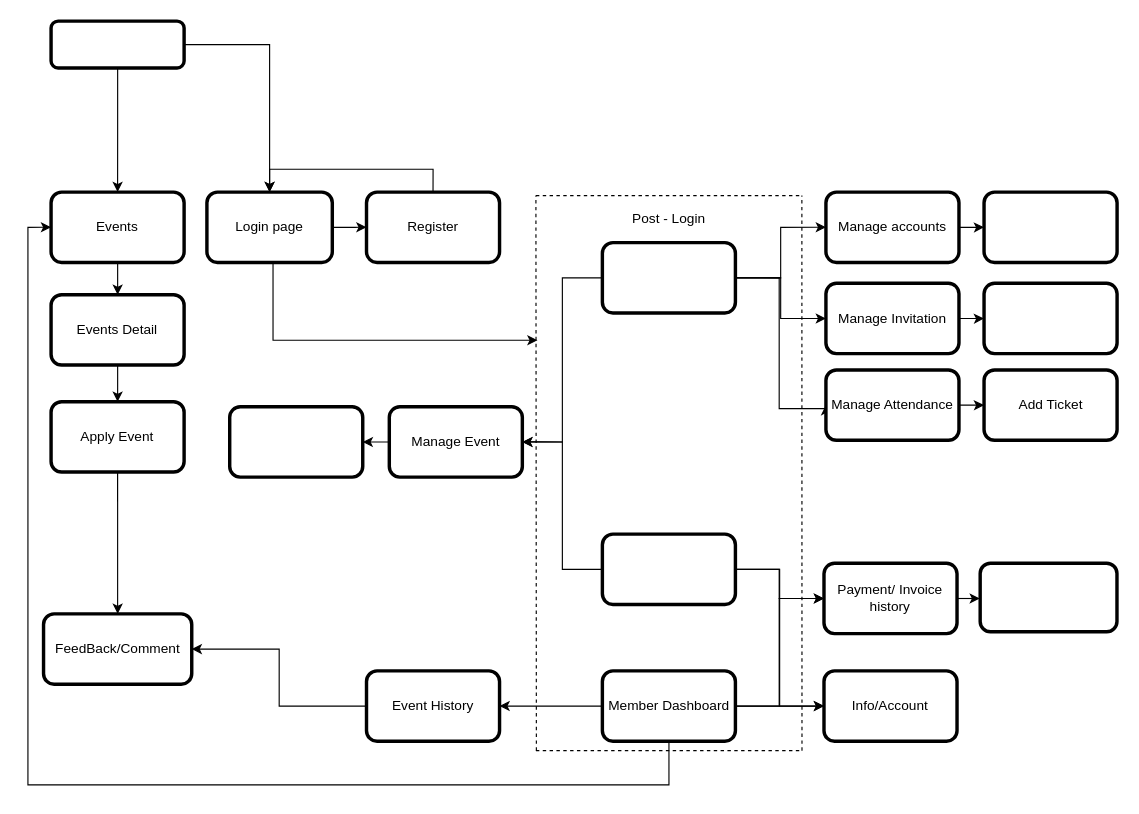
This 1139x814 diagram has some shape labels left out. The shapes that lost their labels are listed below. From the top down, each one's centre as x and y in pixels, then its label:
the point at 117,44: Landding page
the point at 1050,227: Add account
the point at 668,277: Admin Dashboard
the point at 1050,318: Add Invitation
the point at 295,441: Add Event
the point at 668,569: Organizer Dashboard
the point at 1048,597: Add billing/Pay/Upgrade
